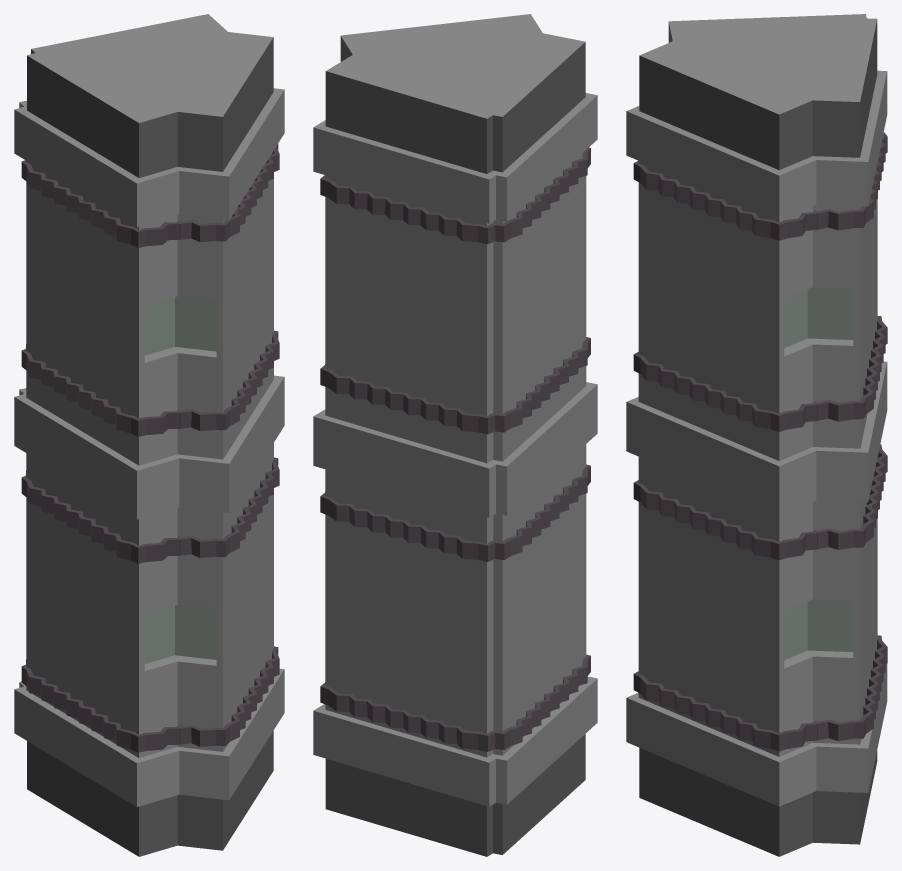
File: SM_pillar_special_02.fbx
3 views of the same model, side by side, from view 1: azimuth 30°, elevation 25°; view 2: azimuth 150°, elevation 25°; view 3: azimuth 270°, elevation 25° (orthographic).
Visible parts, largest first — view 1: pillar_special_02; view 2: pillar_special_02; view 3: pillar_special_02.
Boxes of the visible parts, x1,y1,x2,y2 form: pillar_special_02: (14,14,284,856); pillar_special_02: (313,14,597,856); pillar_special_02: (626,14,887,856).
Bounding box in the file's own units: 194 × 609 × 194.
